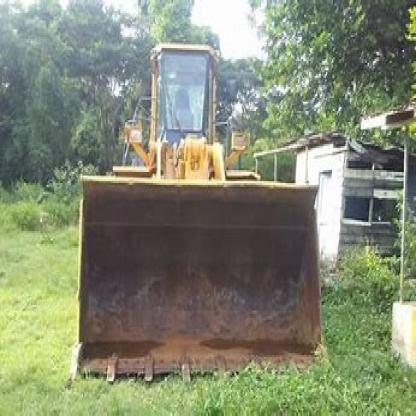bull_dozer/loader/grader: (69, 35, 328, 392)
